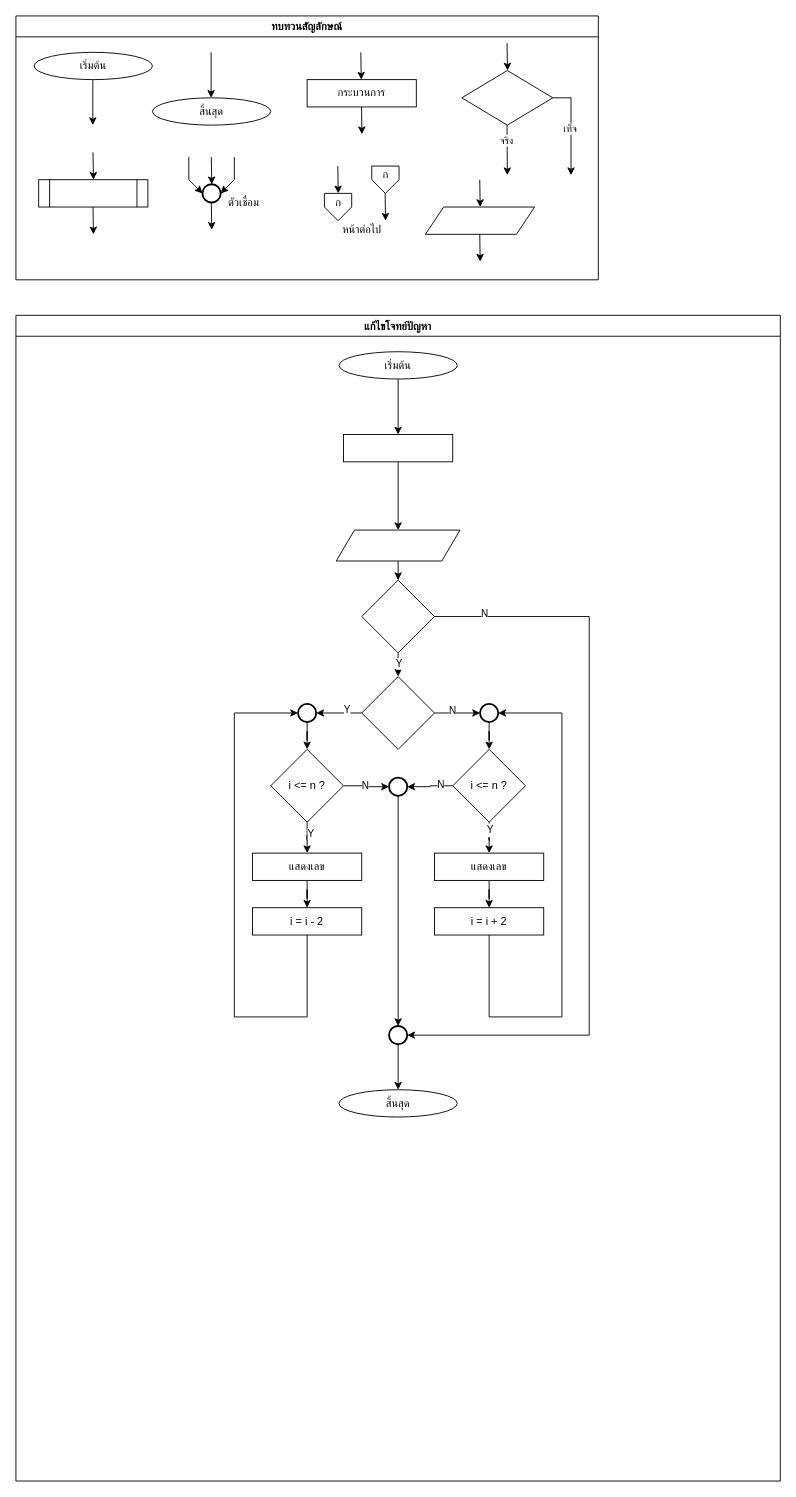
This 796x1497 diagram has some shape labels left out. Each missing label, with the centre of its shape:
"กำหนด N = 0" goes at point (398, 448).
"ถ้า N เป็นเลขคู่?" goes at point (398, 712).
"ประโยคเงื่อนไข" goes at point (507, 97).
"ฟังก์ชัน/โมดูล" goes at point (93, 193).
"รับค่าจากผู้ใช้ N = เลข" goes at point (397, 545).
"เป็นตัวเลข?" goes at point (398, 616).
"แสดงผล/รับค่า" goes at point (480, 220).
